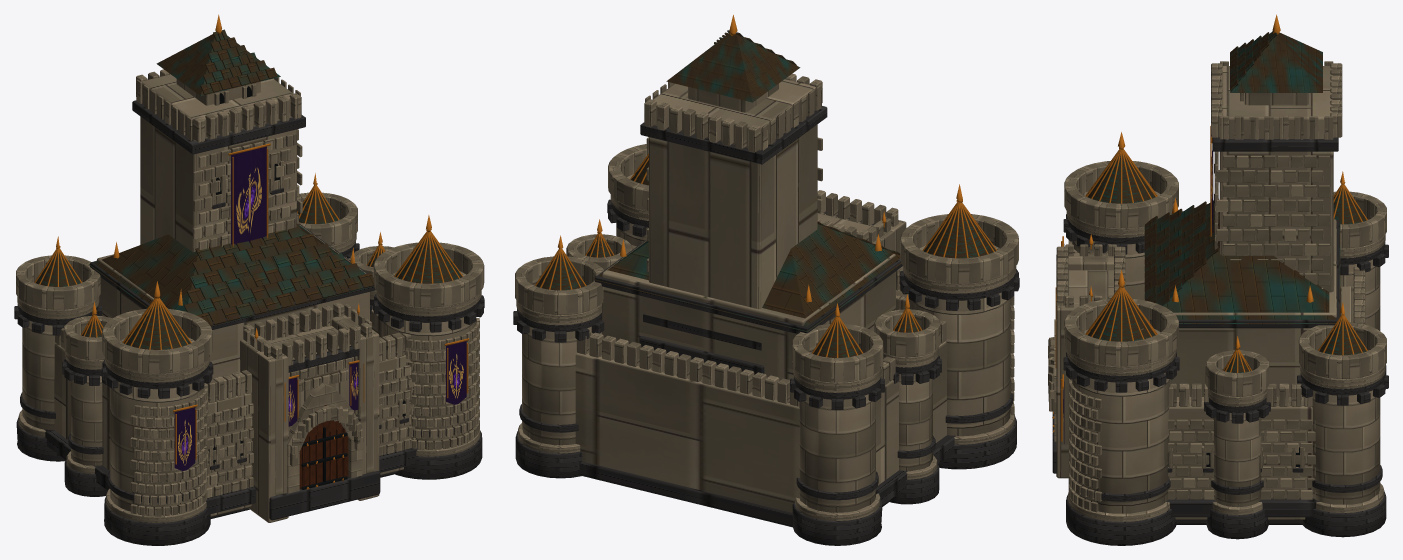
Rendered from hegemony-main-castle-high.glb.
The picture shows the model from 3 angles, left to right: view 1: azimuth 30°, elevation 25°; view 2: azimuth 150°, elevation 25°; view 3: azimuth 270°, elevation 25°; orthographic projection. The views are drawn at different scales.
Parts seen in each view (by area): view 1: WK_Hegemony_Hero_Castle_LOD0_High; view 2: WK_Hegemony_Hero_Castle_LOD0_High; view 3: WK_Hegemony_Hero_Castle_LOD0_High.
Part boxes in pixels (box(x1,y1,x2,y2)): WK_Hegemony_Hero_Castle_LOD0_High: box(14, 14, 484, 545); WK_Hegemony_Hero_Castle_LOD0_High: box(513, 15, 1019, 545); WK_Hegemony_Hero_Castle_LOD0_High: box(1048, 14, 1388, 545).
Bounding box in the file's own units: 12.82 × 14.06 × 9.87.
1 material, 1 textured.
